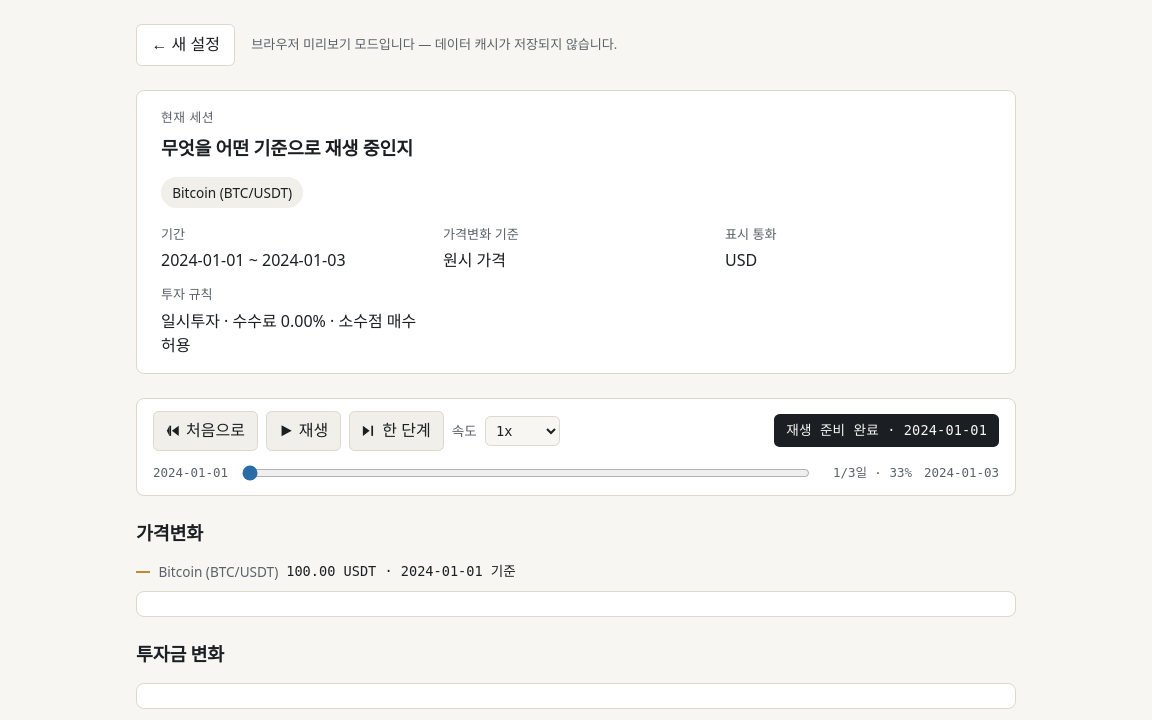
ReplayWorkspace › 한 단계 전진하면 다음 날짜의 결과로 갱신된다 (미래 데이터는 그 전까지 보이지 않음)
Expected: the text "재생 준비 완료 · 2024-01-01" is shown, [774,414,999,447]
Click the button with aria-label "한 단계 전진" at (396, 431), box [349,411,444,451]
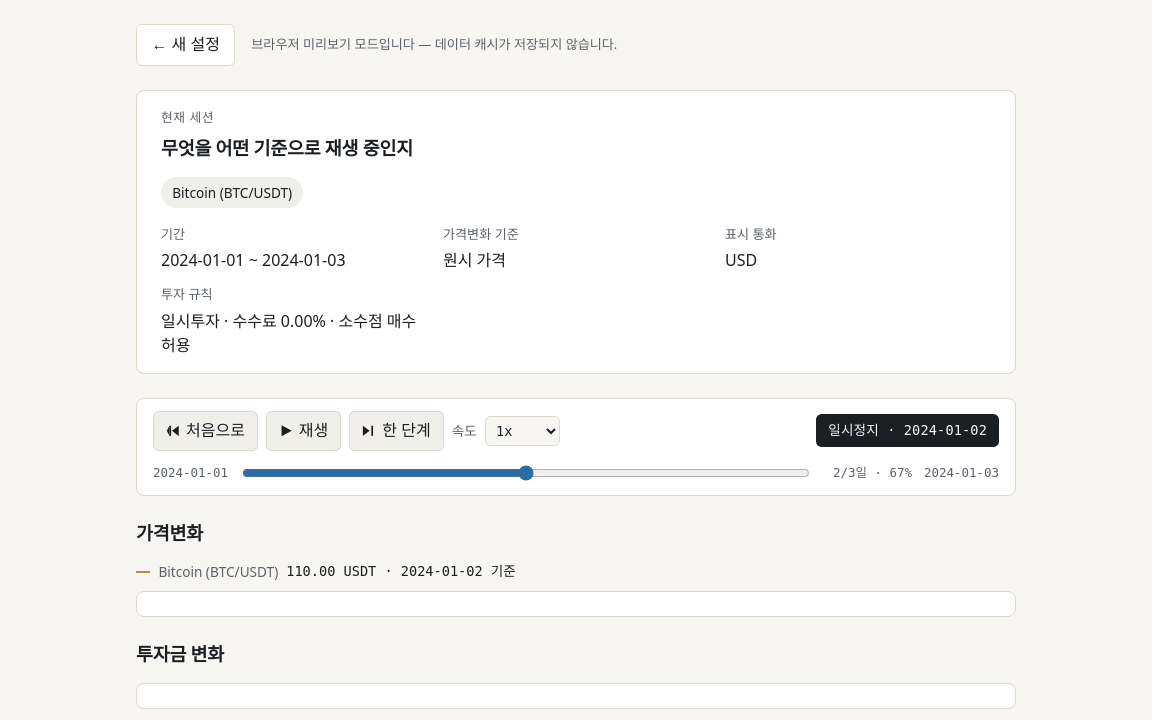
Expected: the text "일시정지 · 2024-01-02" is shown, [816,414,999,447]
